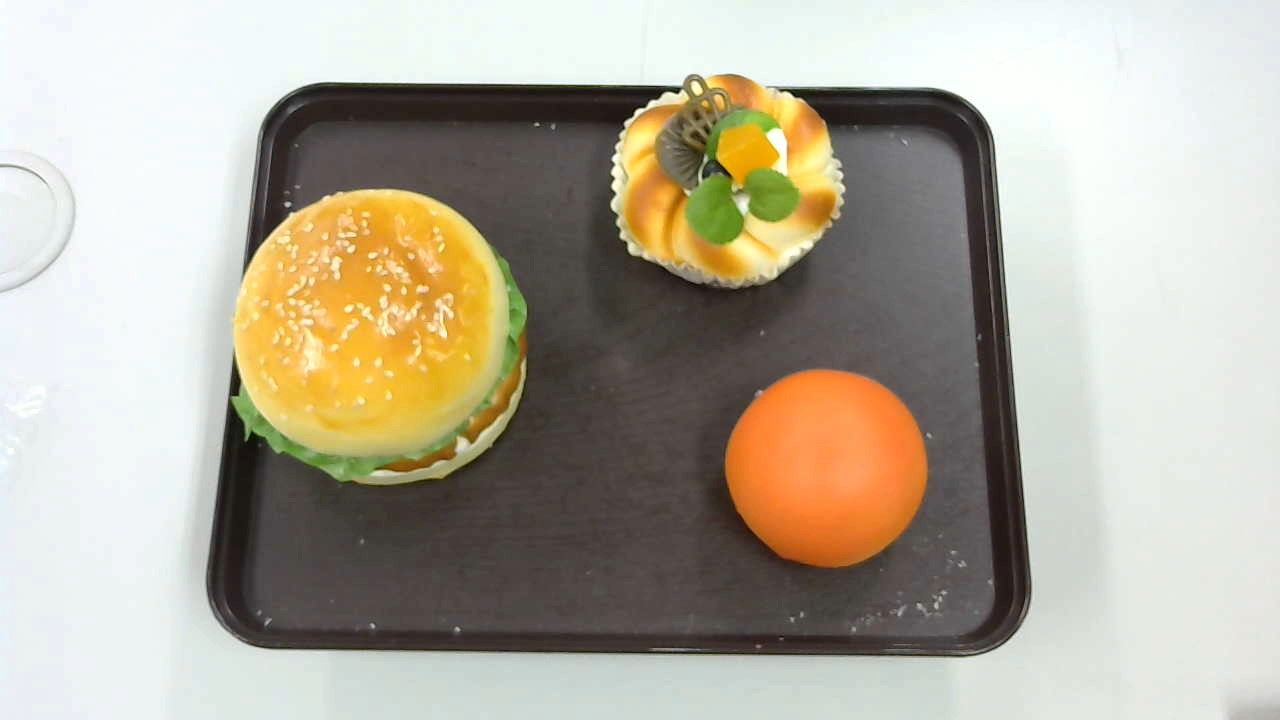bun: (724, 368, 929, 568)
fruit tart: (611, 73, 846, 289)
hamburger: (229, 188, 529, 489)
